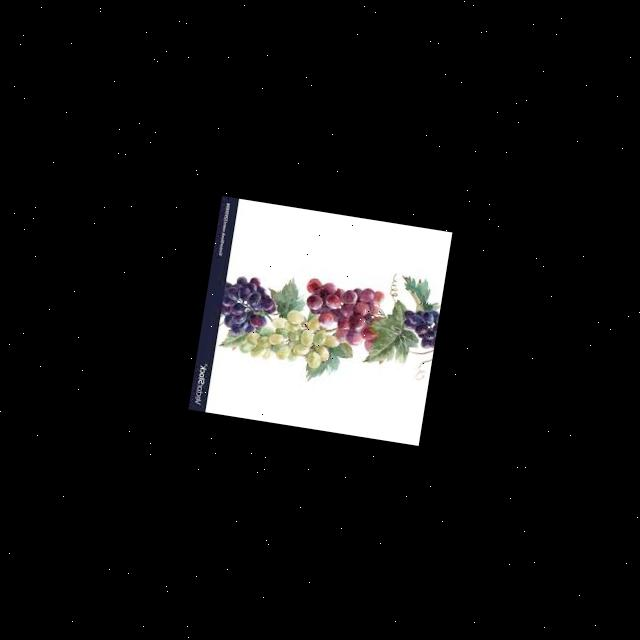grape: (298, 276, 387, 352), (218, 273, 282, 340), (400, 305, 440, 350)
